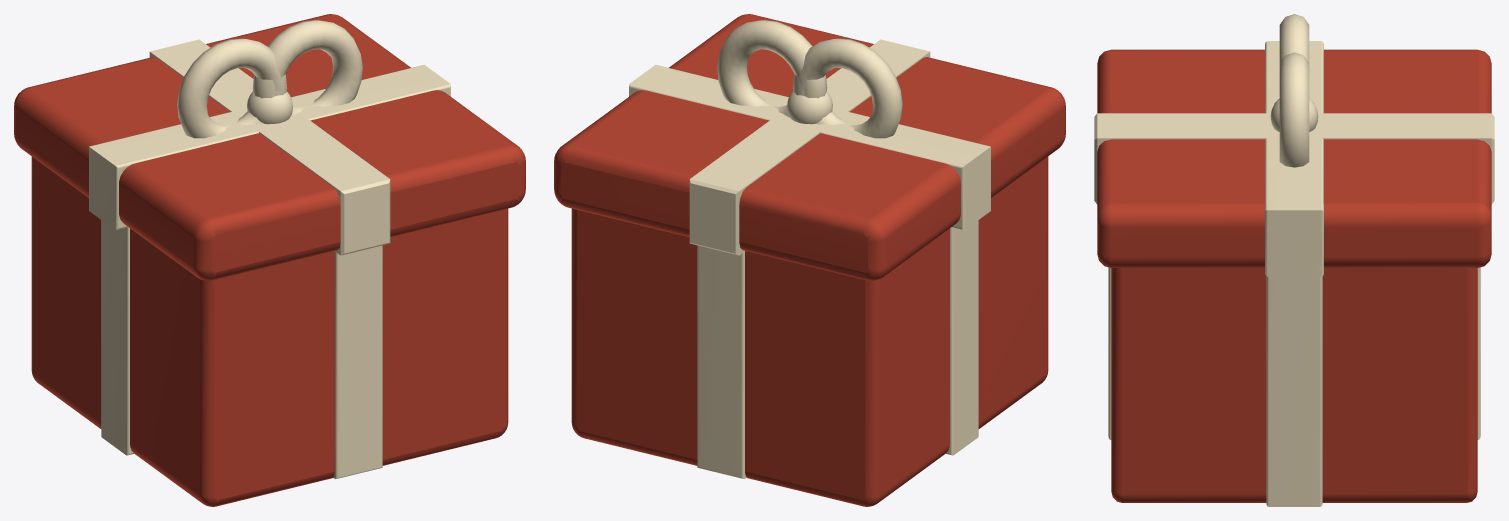
File: present.glb
3 renders of one model, left to right at view 1: azimuth 30°, elevation 25°; view 2: azimuth 150°, elevation 25°; view 3: azimuth 270°, elevation 25°, orthographic. The views are drawn at different scales.
Parts seen in each view (by area): view 1: Wrap, Lid, Ribbon; view 2: Wrap, Lid, Ribbon; view 3: Lid, Wrap, Ribbon.
Part boxes in pixels (box(x1,y1,x2,y2)): Wrap: box(31, 156, 508, 506); Lid: box(14, 14, 525, 280); Ribbon: box(101, 220, 382, 478); Wrap: box(571, 156, 1048, 506); Lid: box(554, 14, 1065, 280); Ribbon: box(697, 220, 978, 478); Lid: box(1094, 14, 1494, 276); Wrap: box(1111, 268, 1477, 502); Ribbon: box(1108, 267, 1480, 506).
Size of the model in its own units: 0.284 by 0.307 by 0.284.
